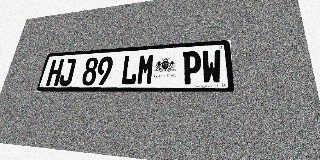8: (81, 57, 100, 85)
9: (95, 56, 114, 85)
H: (46, 59, 64, 86)
J: (58, 58, 77, 86)
L: (120, 55, 139, 85)
M: (136, 53, 155, 85)
P: (182, 51, 201, 84)
W: (202, 49, 222, 84)
